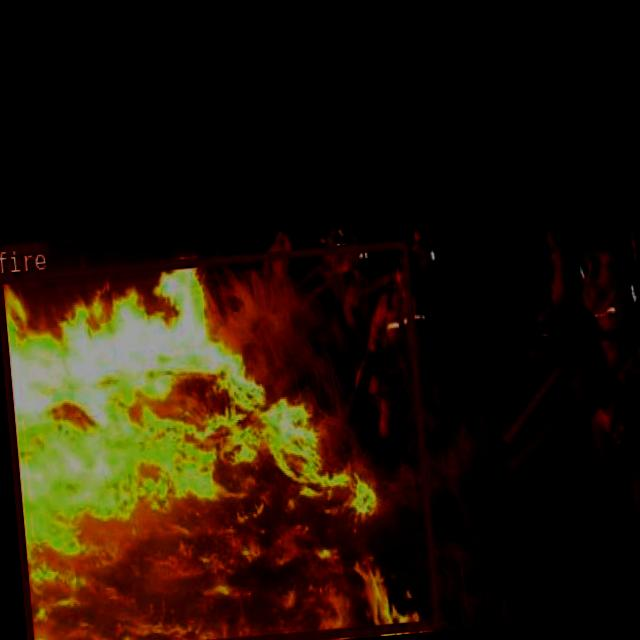fire: (0, 237, 439, 640)
